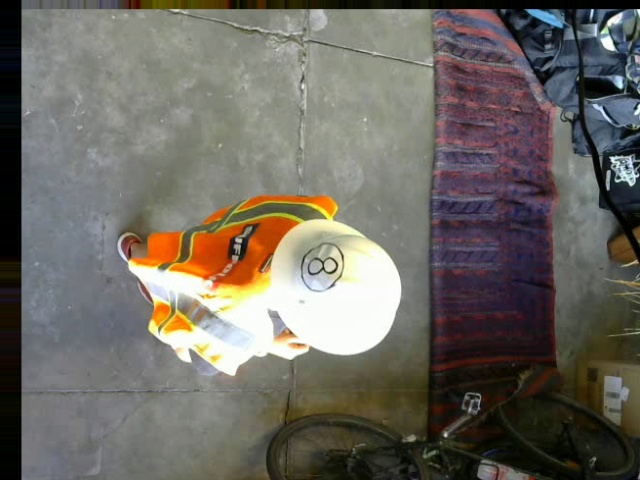eight: (298, 241, 343, 291)
